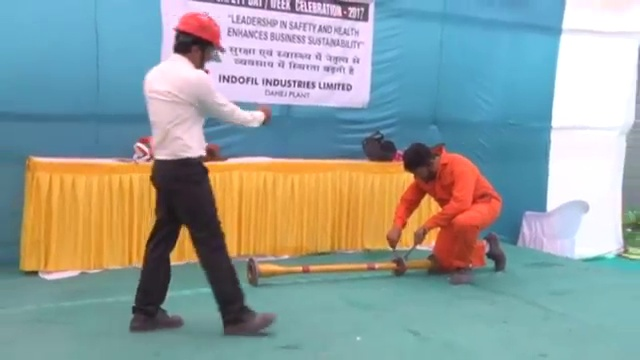helmet: (172, 10, 228, 52)
helmet_off: (404, 141, 439, 180)
helmet_on: (170, 10, 230, 73)
person: (127, 9, 279, 339), (385, 140, 508, 281)
